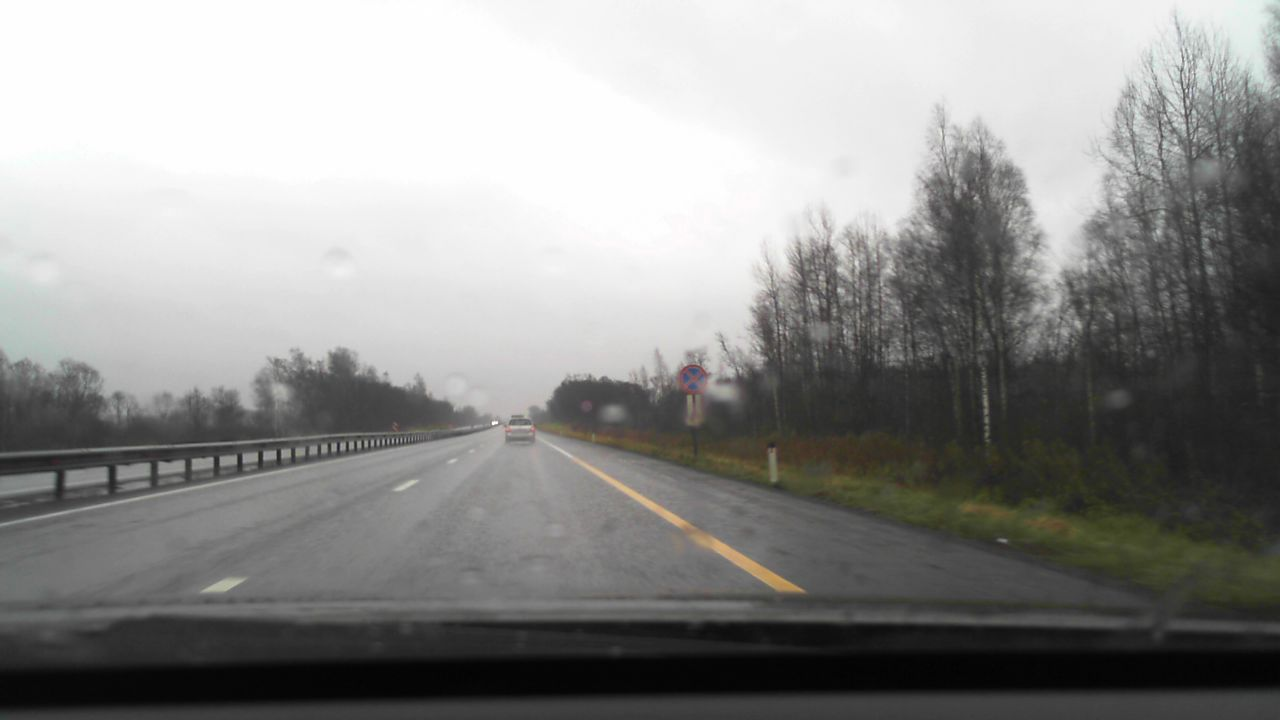No Parking: (677, 364, 708, 394)
